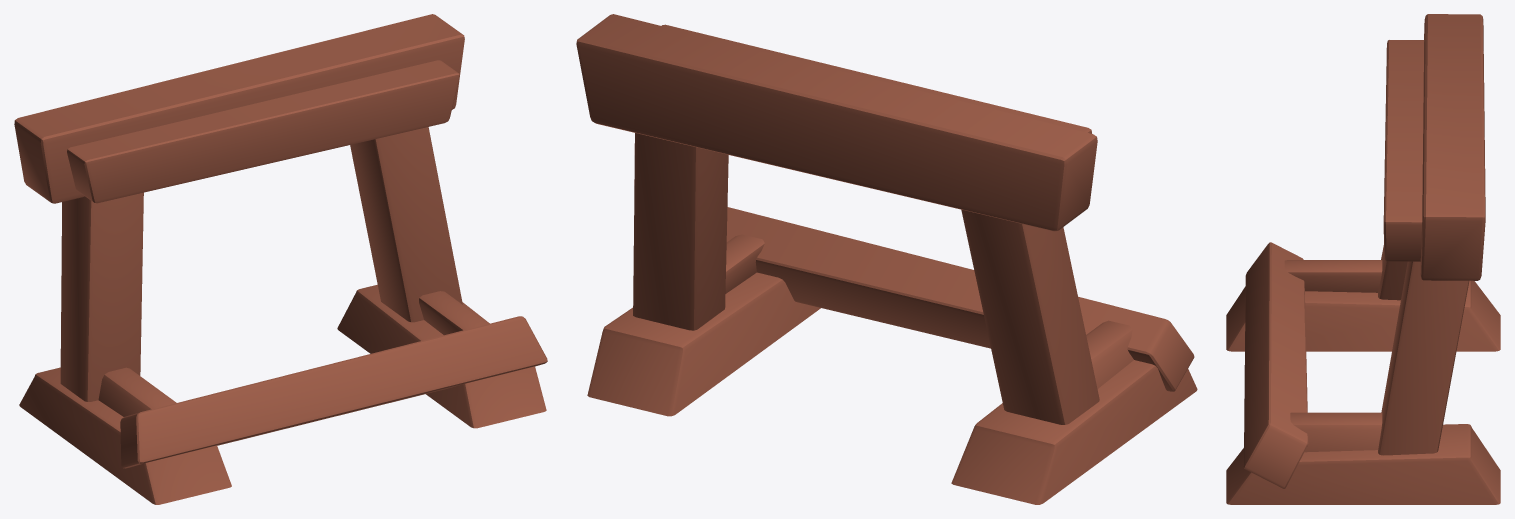
The model's file is kaykit-weaponrack.glb.
The picture shows the model from 3 angles, left to right: view 1: azimuth 30°, elevation 25°; view 2: azimuth 150°, elevation 25°; view 3: azimuth 270°, elevation 25°; orthographic projection. The views are drawn at different scales.
Parts seen in each view (by area): view 1: weaponRack; view 2: weaponRack; view 3: weaponRack.
Part boxes in pixels (x1,y1,x2,y2): weaponRack: (14,14,547,504); weaponRack: (576,14,1197,504); weaponRack: (1226,14,1500,504).
Bounding box in the file's own units: 1.16 × 0.7818 × 0.6538.
